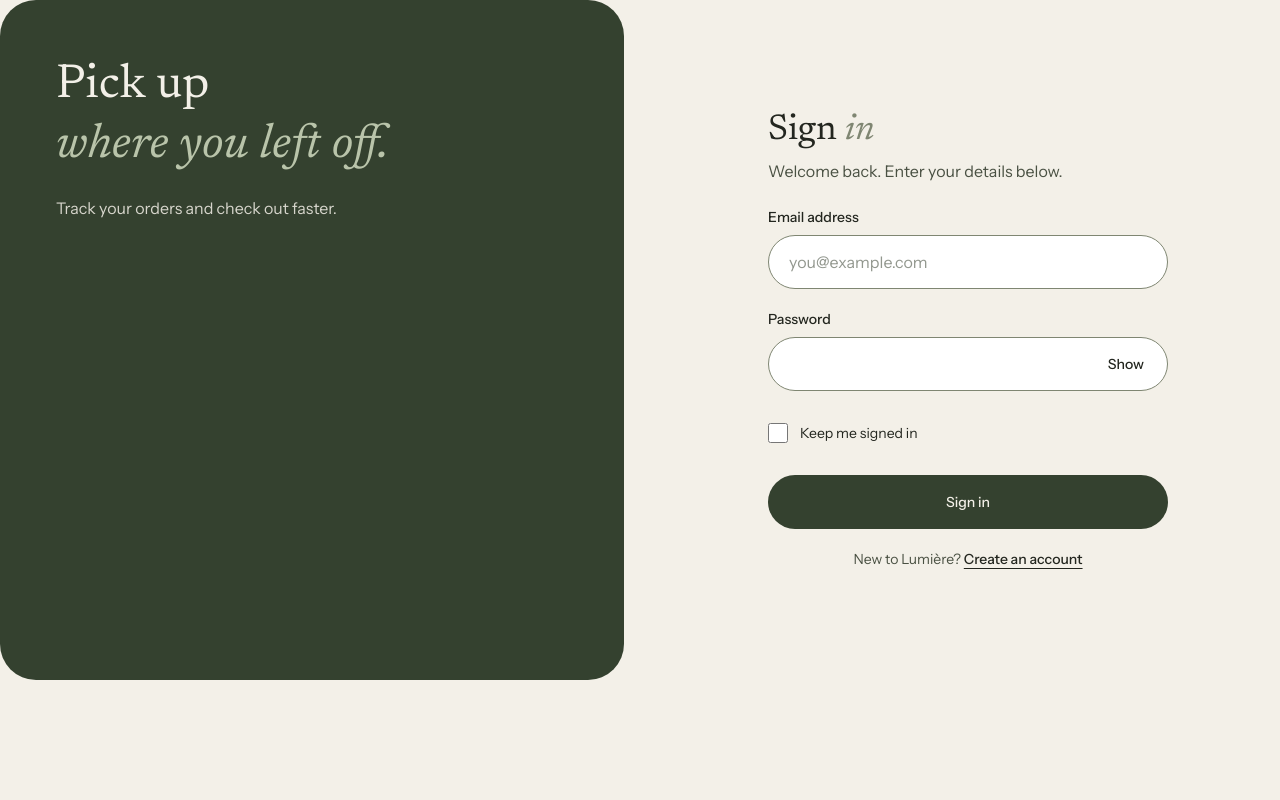
Scenario: LoginPage › shows "Wrong email or password." and stays, keeping what was typed
Type "anna@example.com" into the field labelled "Email address" at (968, 262), box left=768, top=235, right=1168, bottom=289
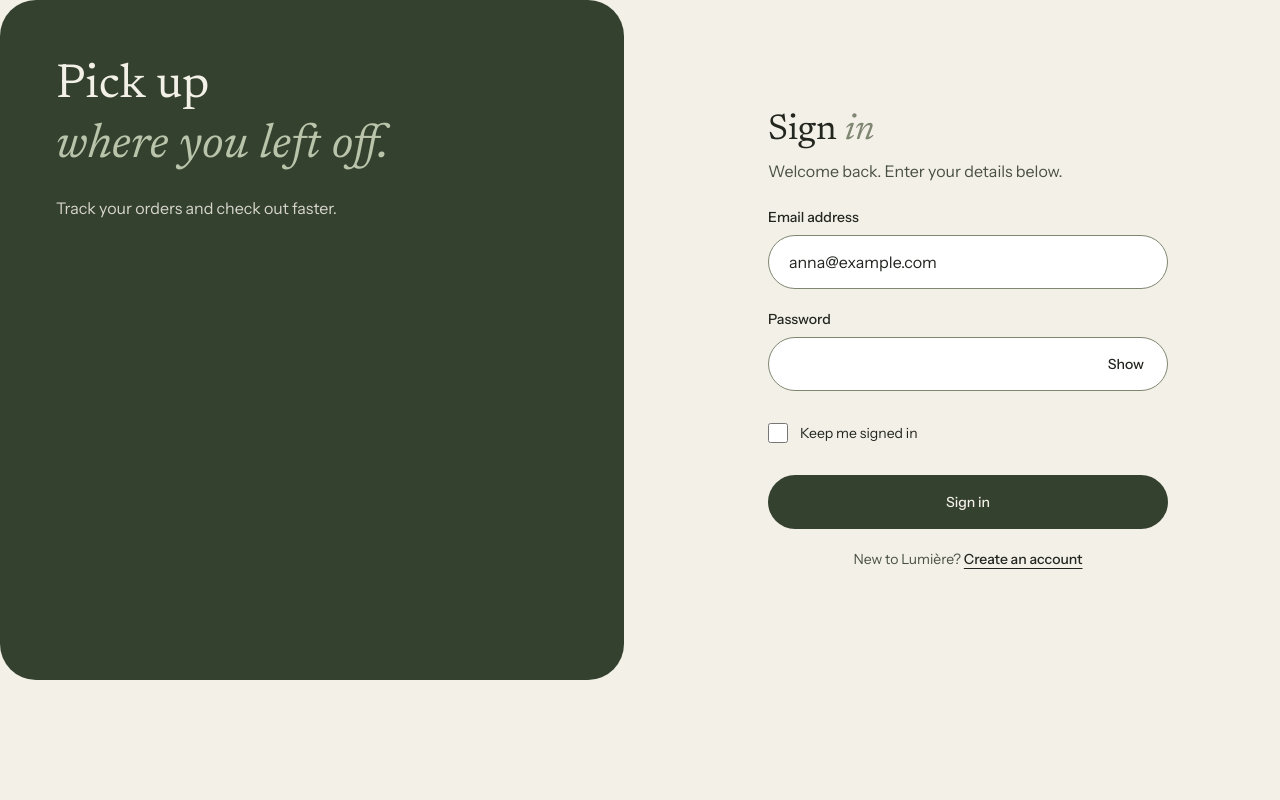
Type "wrong-password" into the password field labelled "Password" at (968, 364), box left=768, top=337, right=1168, bottom=391
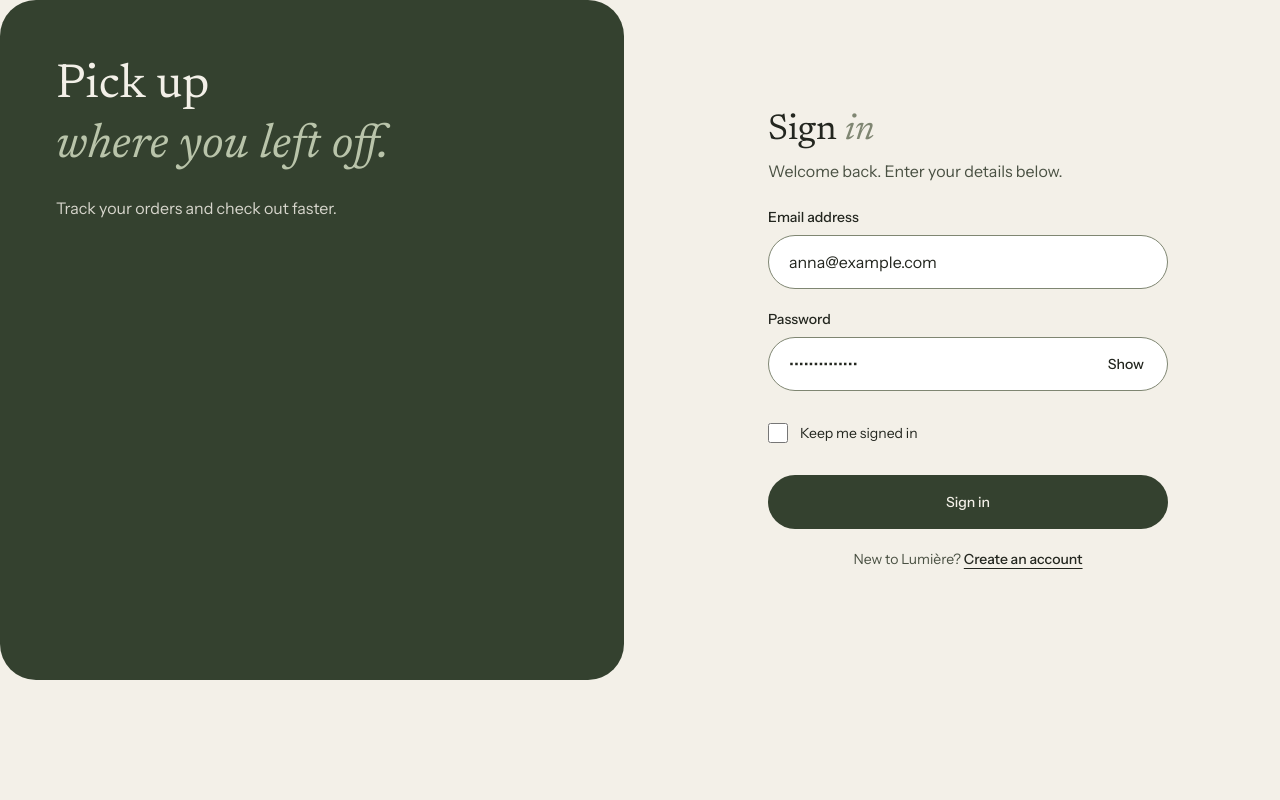
Click the button "Sign in" at (968, 502), box left=768, top=475, right=1168, bottom=529
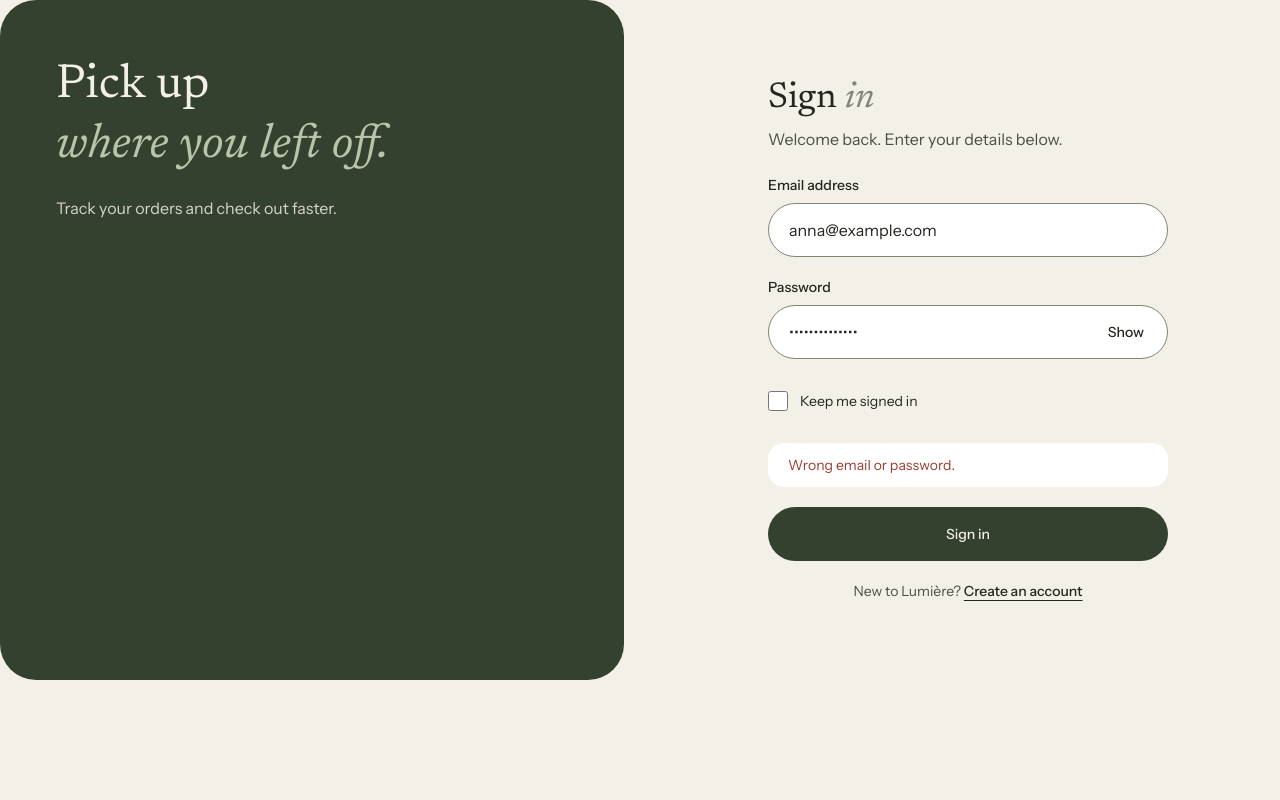
expect the button "Sign in" is enabled: met, box left=768, top=507, right=1168, bottom=561
expect the message reads "Wrong email or password.": met, box left=788, top=456, right=955, bottom=474
